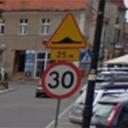speed_limit_30: (38, 59, 83, 101)
